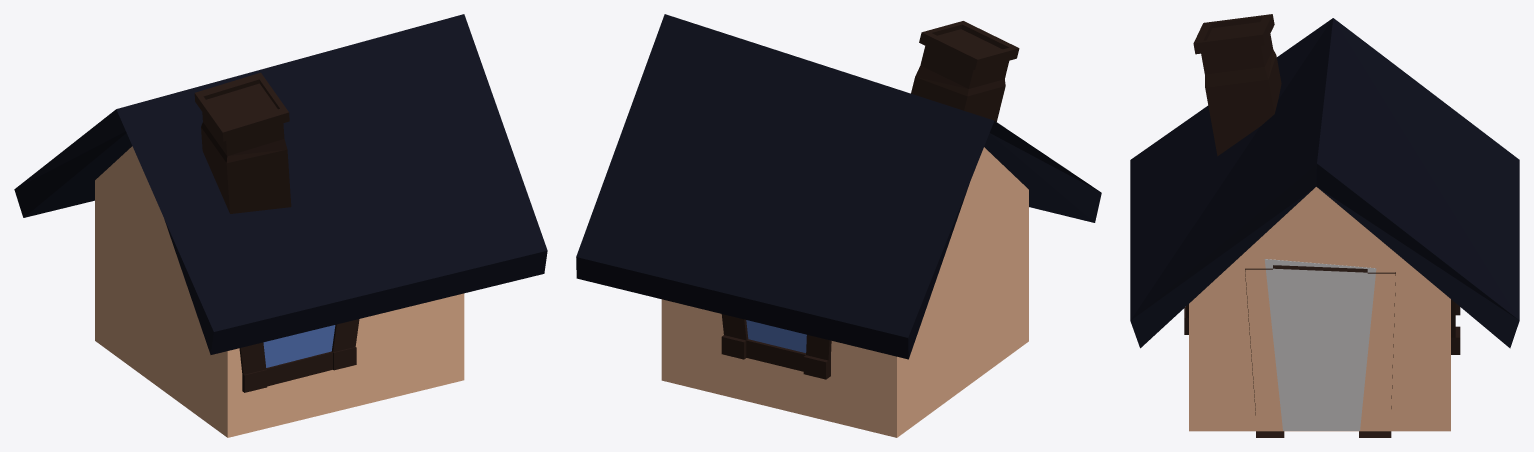
File: better_house.obj
The picture shows the model from 3 angles, left to right: view 1: azimuth 30°, elevation 25°; view 2: azimuth 150°, elevation 25°; view 3: azimuth 270°, elevation 25°; orthographic projection.
Parts seen in each view (by area): view 1: roof_Cube.001, house_Cube, Chimney_Cube.005, windows_Cube.002, glass_Cube.006; view 2: roof_Cube.001, house_Cube, Chimney_Cube.005, windows_Cube.002, glass_Cube.006; view 3: roof_Cube.001, house_Cube, door_Cube.004, Chimney_Cube.005, frame_Cube.003, windows_Cube.002.
Part boxes in pixels (x1=…): roof_Cube.001: x1=14, y1=14, x2=547, y2=354; house_Cube: x1=95, y1=146, x2=464, y2=437; Chimney_Cube.005: x1=194, y1=72, x2=291, y2=213; windows_Cube.002: x1=239, y1=319, x2=359, y2=392; glass_Cube.006: x1=263, y1=325, x2=335, y2=367; roof_Cube.001: x1=576, y1=14, x2=1101, y2=359; house_Cube: x1=661, y1=147, x2=1028, y2=437; Chimney_Cube.005: x1=911, y1=21, x2=1019, y2=121; windows_Cube.002: x1=721, y1=314, x2=831, y2=379; glass_Cube.006: x1=746, y1=320, x2=806, y2=352; roof_Cube.001: x1=1130, y1=18, x2=1519, y2=348; house_Cube: x1=1189, y1=187, x2=1450, y2=431; door_Cube.004: x1=1264, y1=259, x2=1376, y2=430; Chimney_Cube.005: x1=1193, y1=14, x2=1281, y2=156; frame_Cube.003: x1=1245, y1=265, x2=1395, y2=437; windows_Cube.002: x1=1184, y1=299, x2=1460, y2=354.
Size of the model in its own units: 2.23 by 1.97 by 2.19.
